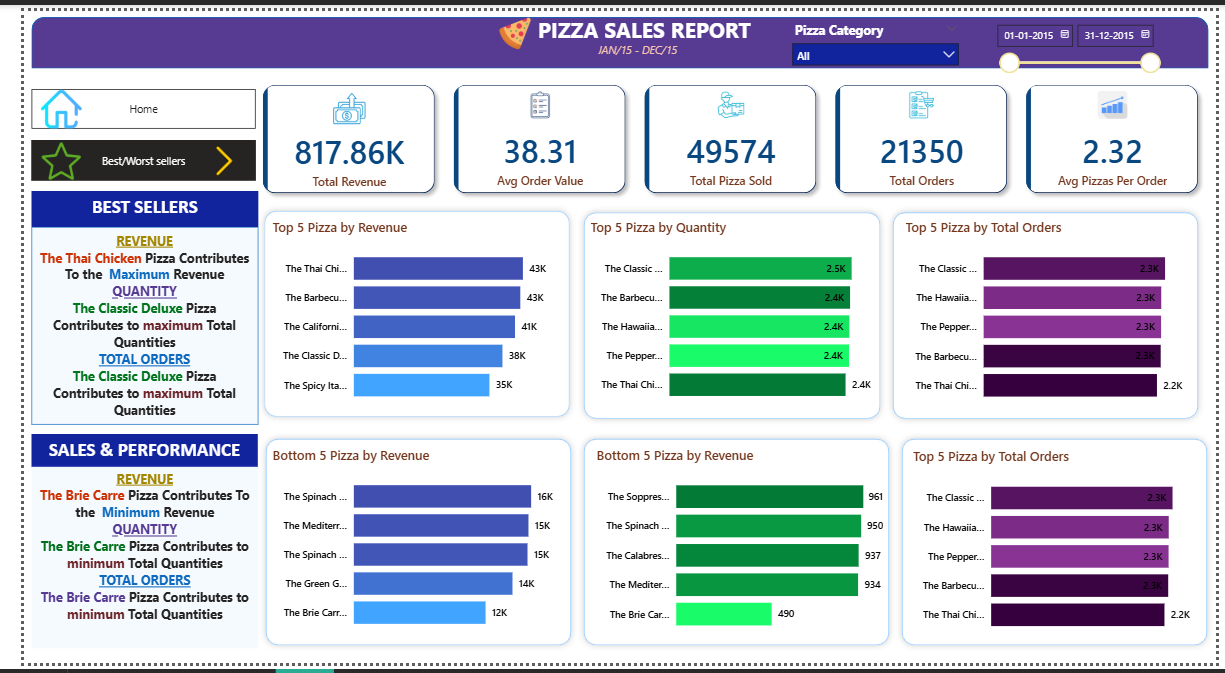

What the dashboard file says about the page in this screenshot:
{"tool":"powerbi","page":{"name":"Best/Worst sellers","canvas":[1500,820],"ordinal":1},"visuals":[{"type":"cardVisual","fields":{"Data":["pizza_sales.Total Revenue","pizza_sales.Avg Order Value","pizza_sales.Total Pizza Sold","pizza_sales.Total Orders","pizza_sales.Avg Pizzas Per Order"]},"box":[278.4,72.5,1221.6,178.4],"z":0},{"type":"shape","box":[9.8,7.8,1480.4,64.7],"z":1000},{"type":"textbox","box":[641.2,0,302,51],"z":2000},{"type":"textbox","box":[717.6,33.3,121.6,31.4],"z":3000},{"type":"image","box":[594.1,7.8,47.1,41.2],"z":4000},{"type":"shape","box":[294.5,243.6,400,275],"z":5000},{"type":"textbox","box":[10,226.7,285,45],"z":6000},{"type":"textbox","box":[10,271.7,285,248.3],"z":7000},{"type":"textbox","box":[9.4,532,284.9,41.5],"z":8000},{"type":"textbox","box":[10,572.5,285,230],"z":9000},{"type":"slicer","fields":{"Values":["pizza_sales.pizza_category"]},"box":[956.4,8.2,229.1,63.6],"z":10000},{"type":"slicer","fields":{"Values":["pizza_sales.order_date"]},"box":[1210.4,7.5,226.9,83.6],"z":11000},{"type":"shape","box":[695.6,244.4,388.9,275.6],"z":12000},{"type":"shape","box":[1084.4,244.4,400,275.6],"z":13000},{"type":"shape","box":[295.6,531.1,400,275.6],"z":14000},{"type":"shape","box":[695.6,531.1,400,275.6],"z":15000},{"type":"shape","box":[1095.6,531.1,400,275.6],"z":16000},{"type":"clusteredBarChart","title":"Top 5 Pizza by Revenue","fields":{"Category":["pizza_sales.pizza_name"],"Y":["pizza_sales.Total Revenue"]},"box":[307.1,260,375.3,244.7],"z":17000},{"type":"clusteredBarChart","title":"Bottom 5 Pizza by Revenue","fields":{"Category":["pizza_sales.pizza_name"],"Y":["pizza_sales.Total Revenue"]},"box":[308,548,374.7,244],"z":17001},{"type":"clusteredBarChart","title":"Top 5 Pizza by Quantity","fields":{"Category":["pizza_sales.pizza_name"],"Y":["pizza_sales.Total Pizza Sold"]},"box":[707.5,260,362.5,244.2],"z":17002},{"type":"clusteredBarChart","title":"Bottom 5 Pizza by Revenue","fields":{"Category":["pizza_sales.pizza_name"],"Y":["pizza_sales.Total Pizza Sold"]},"box":[714.6,546.9,370,246.2],"z":17003},{"type":"clusteredBarChart","title":"Top 5 Pizza by Total Orders","fields":{"Category":["pizza_sales.pizza_name"],"Y":["pizza_sales.Total Orders"]},"box":[1103.3,260,361.7,245],"z":17004},{"type":"clusteredBarChart","title":"Top 5 Pizza by Total Orders","fields":{"Category":["pizza_sales.pizza_name"],"Y":["pizza_sales.Total Orders"]},"box":[1113.3,548.3,361.7,245],"z":17006},{"type":"pageNavigator","box":[8.9,162.2,282.2,51.1],"z":17007},{"type":"pageNavigator","box":[10,98,282,50.7],"z":17008},{"type":"image","box":[223.6,170,54.5,37.3],"z":17009},{"type":"image","box":[0,98,94.1,51],"z":17010},{"type":"image","box":[7.8,164.7,78.4,49],"z":17011}]}

Visuals, with their boxes in screenshot pixels (x1, y1, x2, y2), scaled from the page's 1500x820 canvas onto the 1225x673 screenshot:
cardVisual - pizza_sales.Total Revenue x pizza_sales.Avg Order Value: [227,60,1224,206]
shape: [8,6,1217,60]
textbox: [524,0,770,42]
textbox: [586,27,685,53]
image: [485,6,524,40]
shape: [241,200,567,426]
textbox: [8,186,241,223]
textbox: [8,223,241,427]
textbox: [8,437,240,471]
textbox: [8,470,241,659]
slicer - pizza_sales.pizza_category: [781,7,968,59]
slicer - pizza_sales.order_date: [988,6,1174,75]
shape: [568,201,886,427]
shape: [886,201,1212,427]
shape: [241,436,568,662]
shape: [568,436,895,662]
shape: [895,436,1221,662]
"Top 5 Pizza by Revenue" clusteredBarChart: [251,213,557,414]
"Bottom 5 Pizza by Revenue" clusteredBarChart: [252,450,558,650]
"Top 5 Pizza by Quantity" clusteredBarChart: [578,213,874,414]
"Bottom 5 Pizza by Revenue" clusteredBarChart: [584,449,886,651]
"Top 5 Pizza by Total Orders" clusteredBarChart: [901,213,1196,414]
"Top 5 Pizza by Total Orders" clusteredBarChart: [909,450,1205,651]
pageNavigator: [7,133,238,175]
pageNavigator: [8,80,238,122]
image: [183,140,227,170]
image: [0,80,77,122]
image: [6,135,70,175]
